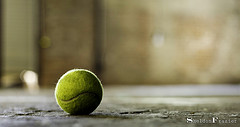tennis ball: (55, 68, 106, 116)
